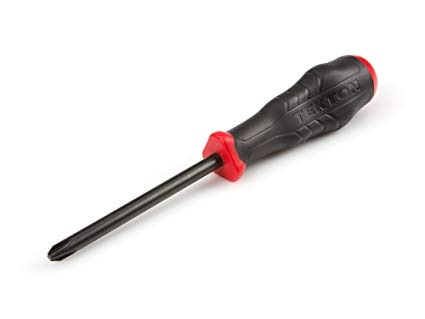screwdriver: (45, 44, 380, 263)
